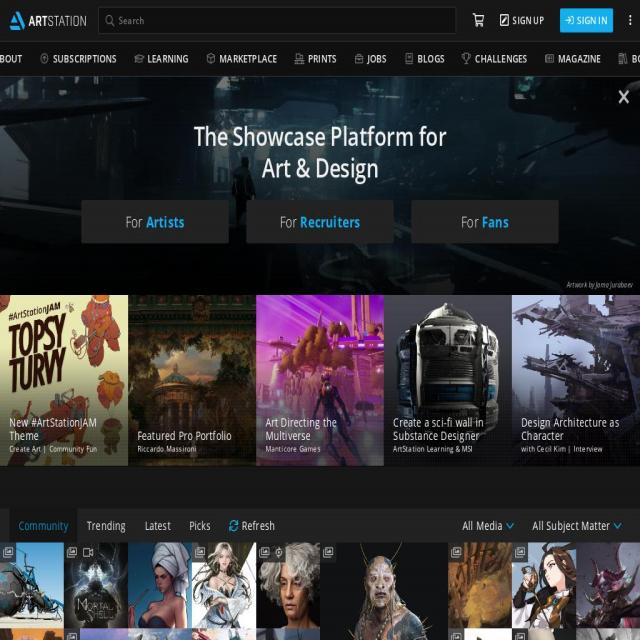login-option: (558, 8, 622, 35)
navigation-blocks: (6, 281, 640, 640)
navigation-links: (4, 42, 640, 80)
search: (97, 0, 461, 33)
sign-up-option: (497, 5, 552, 33)
